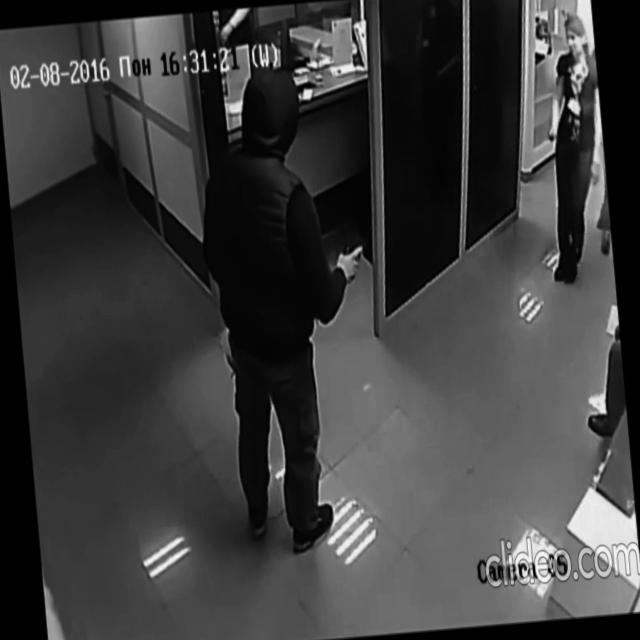gun: (340, 236, 367, 258)
person: (531, 12, 613, 284)
person with a gun: (184, 53, 394, 560)
